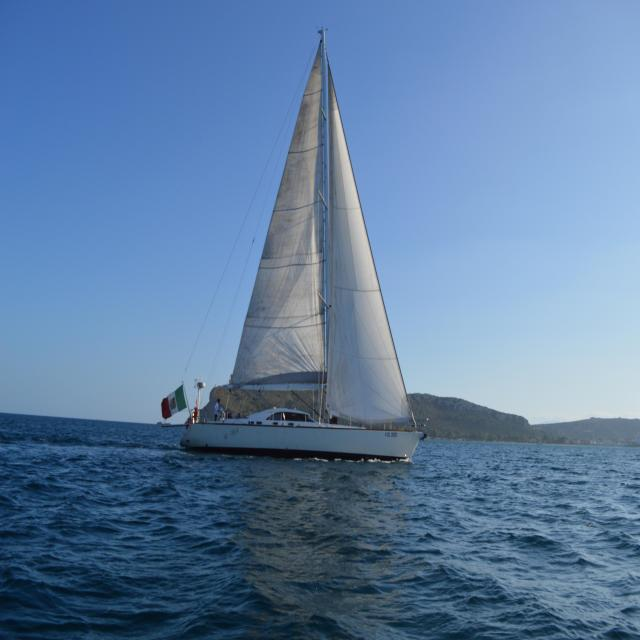boat: (158, 24, 434, 483)
